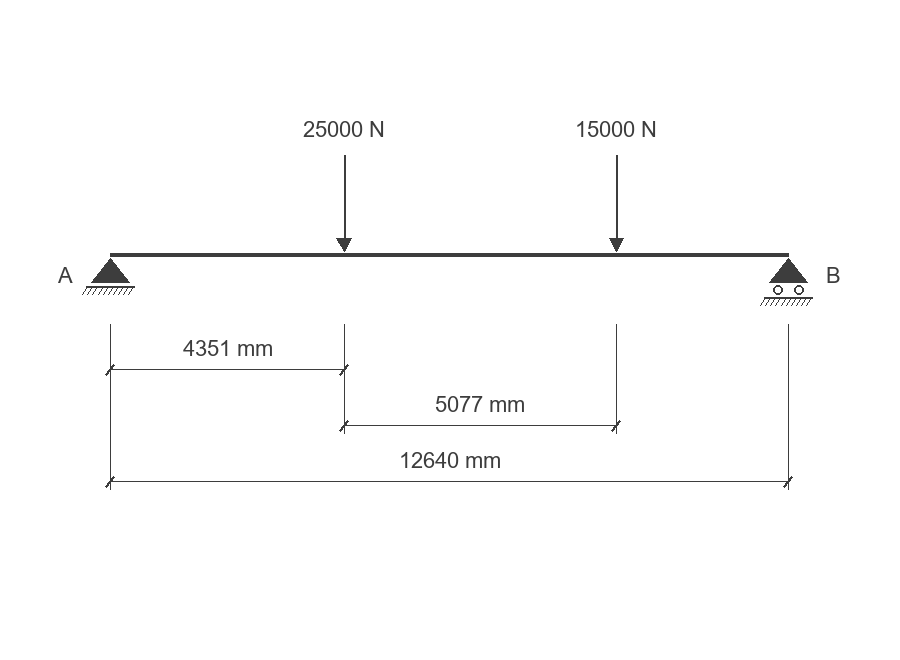pin_support: (82, 258, 135, 295)
point_load: (336, 155, 352, 252), (609, 155, 624, 252)
roller_support: (760, 258, 813, 306)
